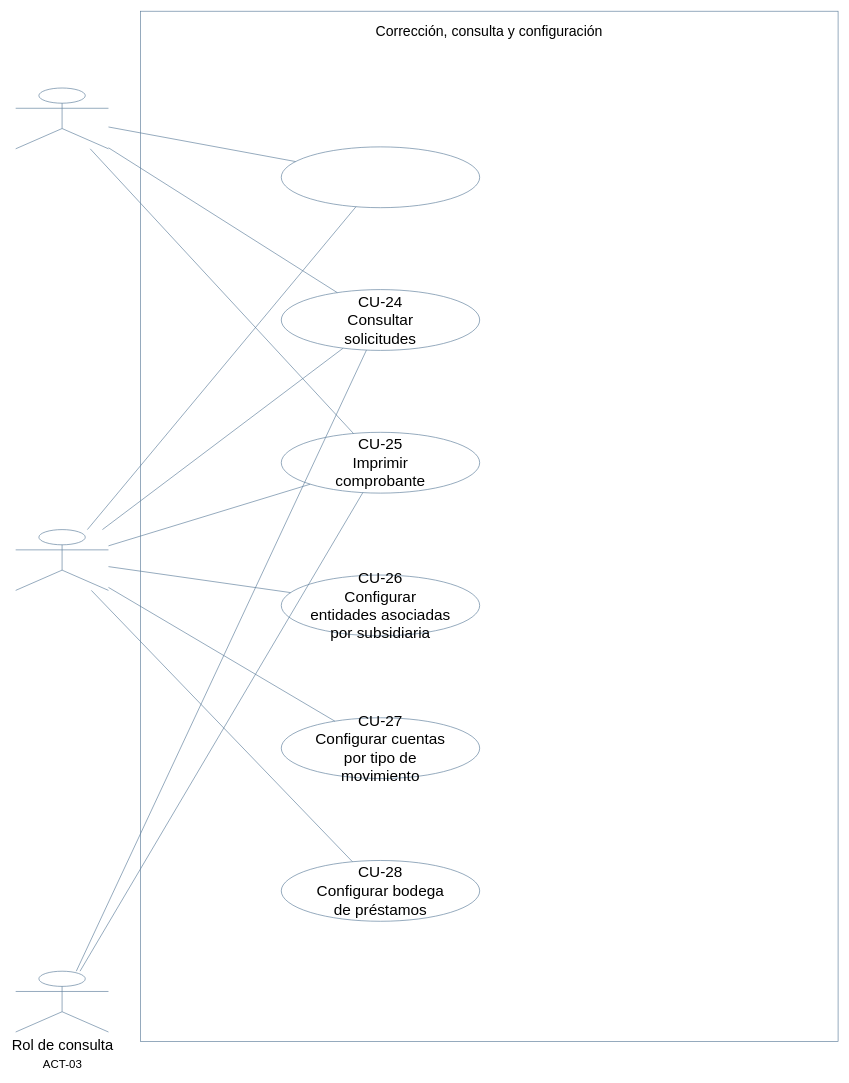
Some shapes in this 849 by 1083 pixel diagram are drawn without their labels. The box of each missing label's shape, as (x1, y1, x2, y2) in pixels:
Administrator ACT-02: (15, 529, 108, 590)
CU-10 Corregir o anular solicitud: (281, 146, 480, 208)
QF CASPM ACT-01: (15, 87, 108, 149)
